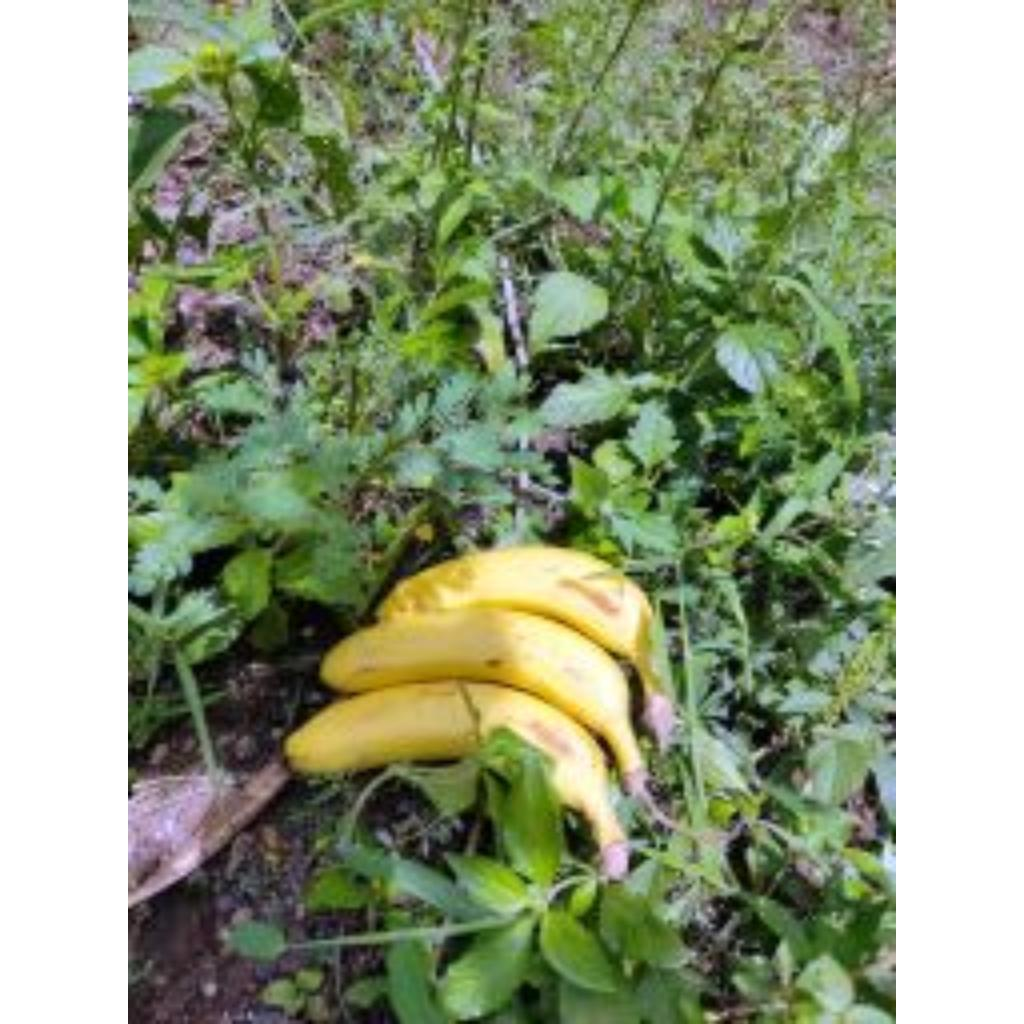banana: (284, 680, 628, 877), (322, 608, 644, 791), (380, 546, 670, 705)
